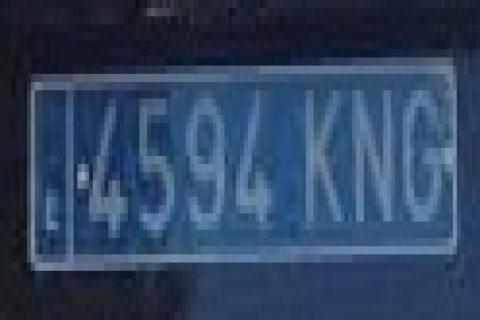LicensePlate: (26, 56, 458, 274)
